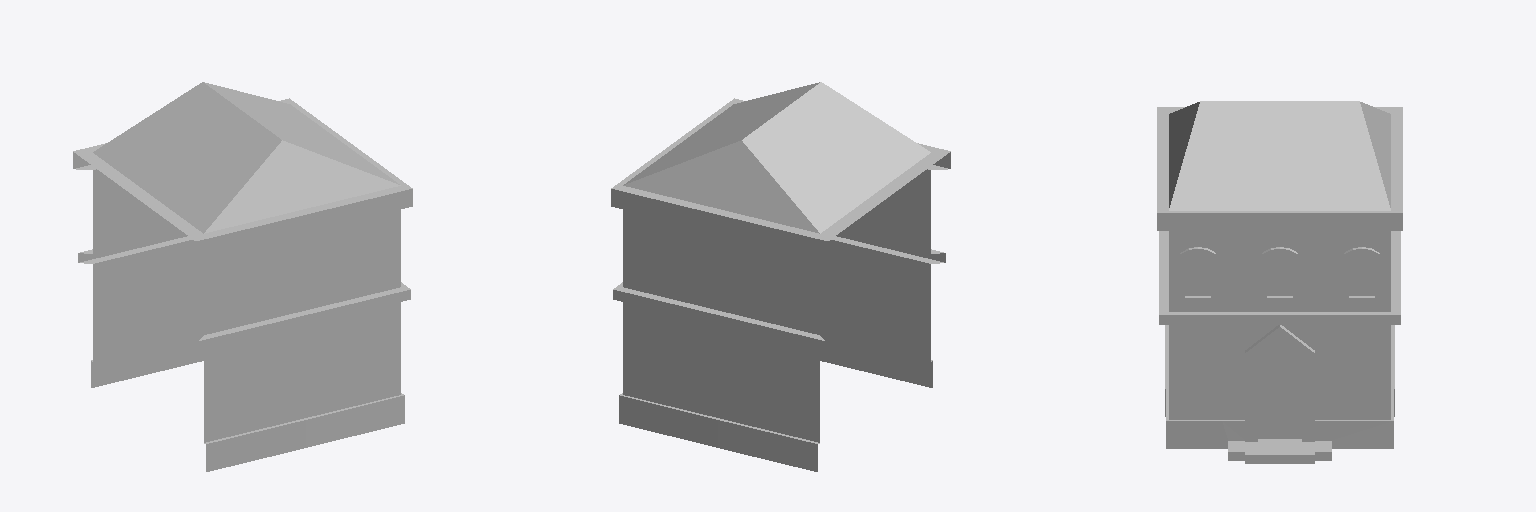
The model's file is Assets1.obj.
3 views of the same model, side by side, from view 1: azimuth 30°, elevation 25°; view 2: azimuth 150°, elevation 25°; view 3: azimuth 270°, elevation 25° (orthographic).
Visible parts, largest first — view 1: Cube; view 2: Cube; view 3: Cube.
Boxes of the visible parts, x1=… form: Cube: x1=73, y1=82, x2=412, y2=471; Cube: x1=611, y1=82, x2=950, y2=471; Cube: x1=1157, y1=101, x2=1402, y2=463.
Bounding box in the file's own units: 2.23 × 2.59 × 1.95.